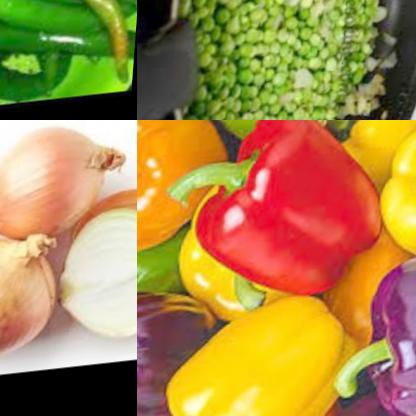bell pepper: (166, 120, 395, 321), (170, 284, 373, 416), (346, 252, 416, 416), (288, 120, 416, 205), (137, 282, 216, 416), (137, 120, 206, 258), (372, 120, 416, 286), (137, 219, 195, 314), (183, 120, 325, 151)
hot pepper: (0, 0, 137, 120)
onion: (0, 120, 116, 251), (65, 201, 137, 358), (0, 237, 73, 369), (73, 184, 137, 316)
peas: (167, 0, 399, 120)
